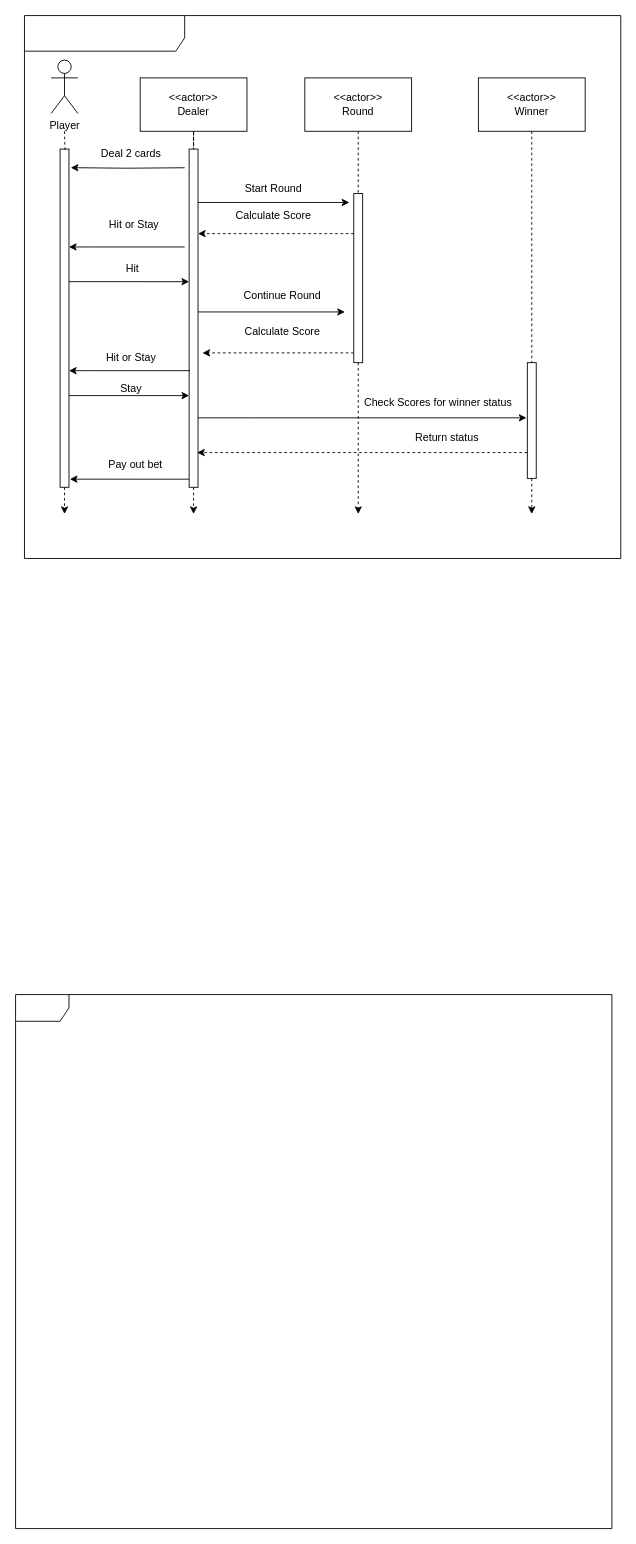
The diagram is 636 pixels wide and 1544 high, and some of its shapes have lost their labels. Each missing label, with the centre of its shape:
Sequence Diagram for player who chooses to hit: the point at 313,1261
Sequence Diagram for player who chooses to hit once: the point at 322,286
